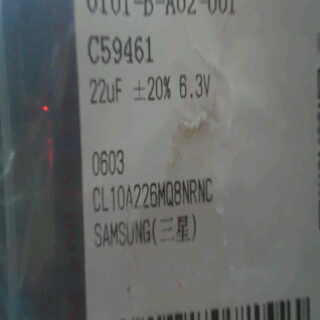22uF: (89, 74, 126, 108)
